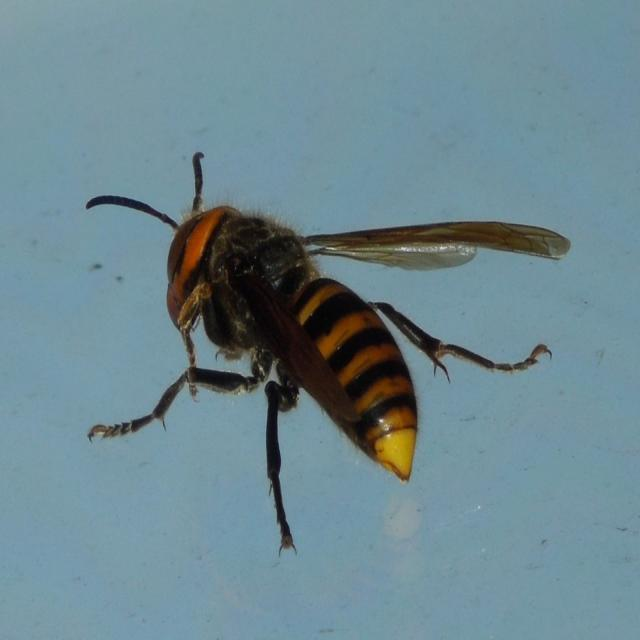Wasp: (83, 145, 568, 543)
